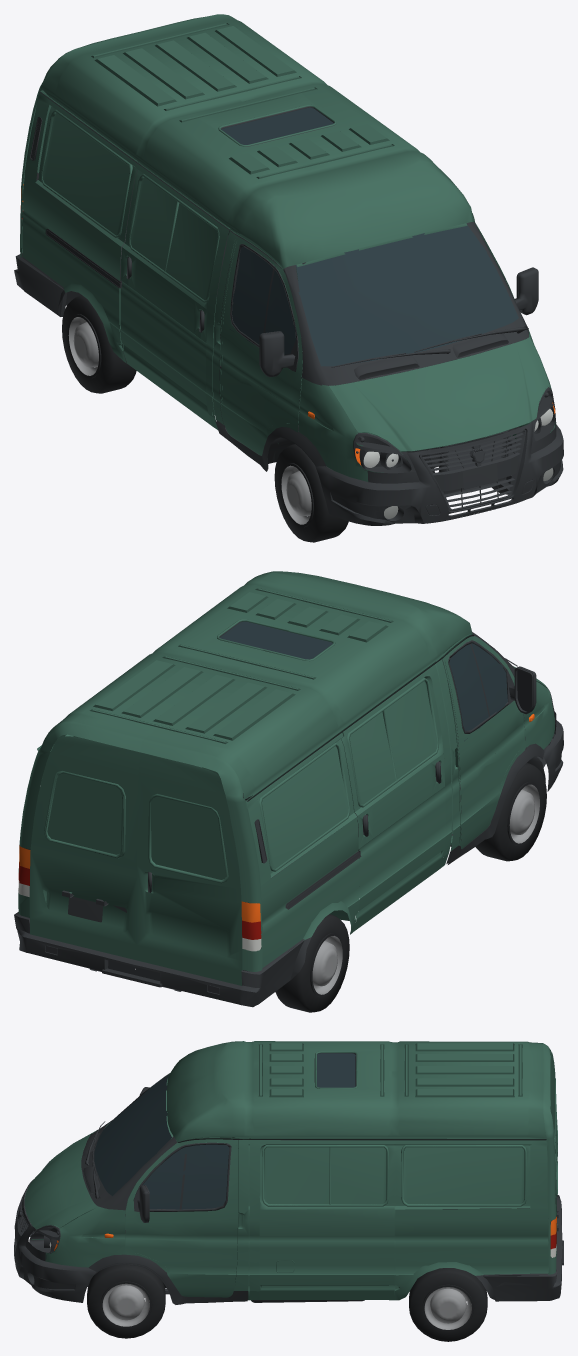
File: gazel.glb
3 renders of one model, top to bottom at view 1: azimuth 30°, elevation 25°; view 2: azimuth 150°, elevation 25°; view 3: azimuth 270°, elevation 25°, orthographic. The views are drawn at different scales.
Visible parts, largest first — view 1: chassisbody, interior, glass, wheel_rr, wheel_fr, chassis_trim; view 2: chassisbody, interior, glass, wheel_rr, wheel_fr, chassis_trim, taillights; view 3: chassisbody, interior, glass, wheel_fl, wheel_rl, chassis_trim.
Boxes of the visible parts, x1,y1,x2,y2 form: chassisbody: (20,14,555,481); interior: (14,91,563,525); glass: (221,107,518,366); wheel_rr: (62,295,136,393); wheel_fr: (274,444,348,542); chassis_trim: (23,210,556,489); chassisbody: (18,571,554,985); interior: (14,621,563,1007); glass: (220,621,507,741); wheel_rr: (275,914,349,1012); wheel_fr: (475,763,546,861); chassis_trim: (24,670,555,922); taillights: (18,863,261,939); chassisbody: (24,1041,557,1300); interior: (14,1053,563,1304); glass: (94,1053,355,1209); wheel_fl: (87,1264,165,1338); wheel_rl: (409,1268,487,1341); chassis_trim: (15,1161,550,1258).
Size of the model in its own units: 2.47 by 2.47 by 5.4.
